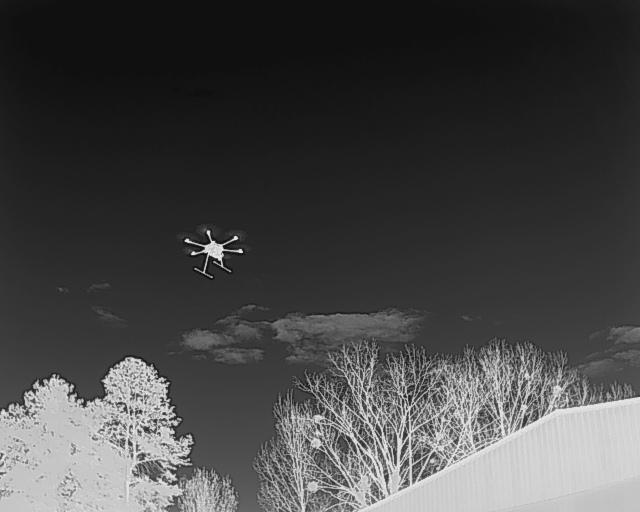drone: (175, 215, 254, 283)
